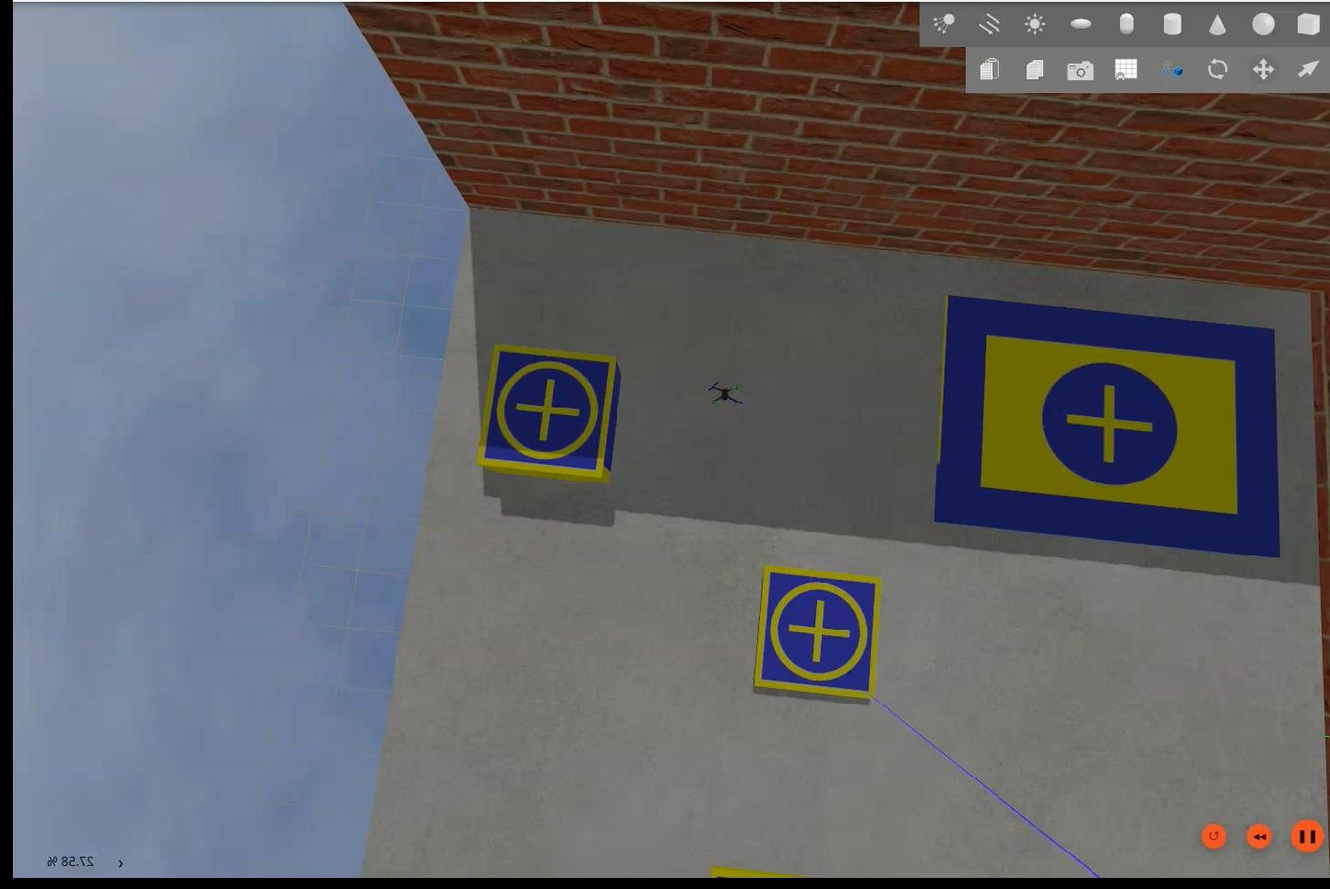large_base: (931, 295, 1281, 562)
small_base: (478, 343, 619, 480), (751, 564, 883, 701)
